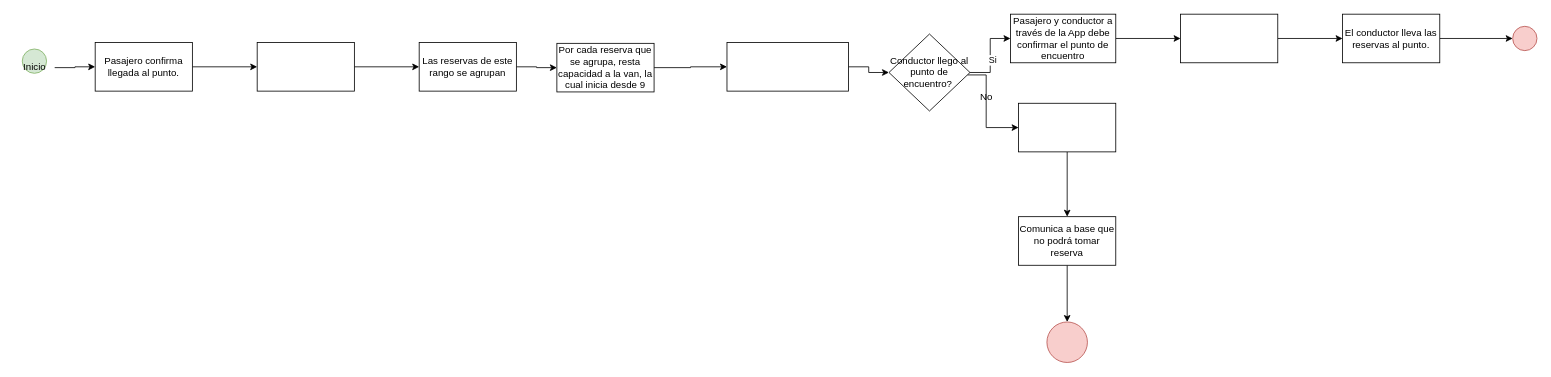
This 1551x377 diagram has some shape labels left out. Each missing label, with the box of its shape:
Conductor en ruta a punto de encuentro: (726, 42, 848, 91)
El conductor no puede hacer contacto con la reserva: (1018, 102, 1116, 152)
El estado de la reserva cambia a "En servicio": (1180, 13, 1278, 63)
La App busca reservas en un rango de 30 Min: (256, 42, 354, 91)
